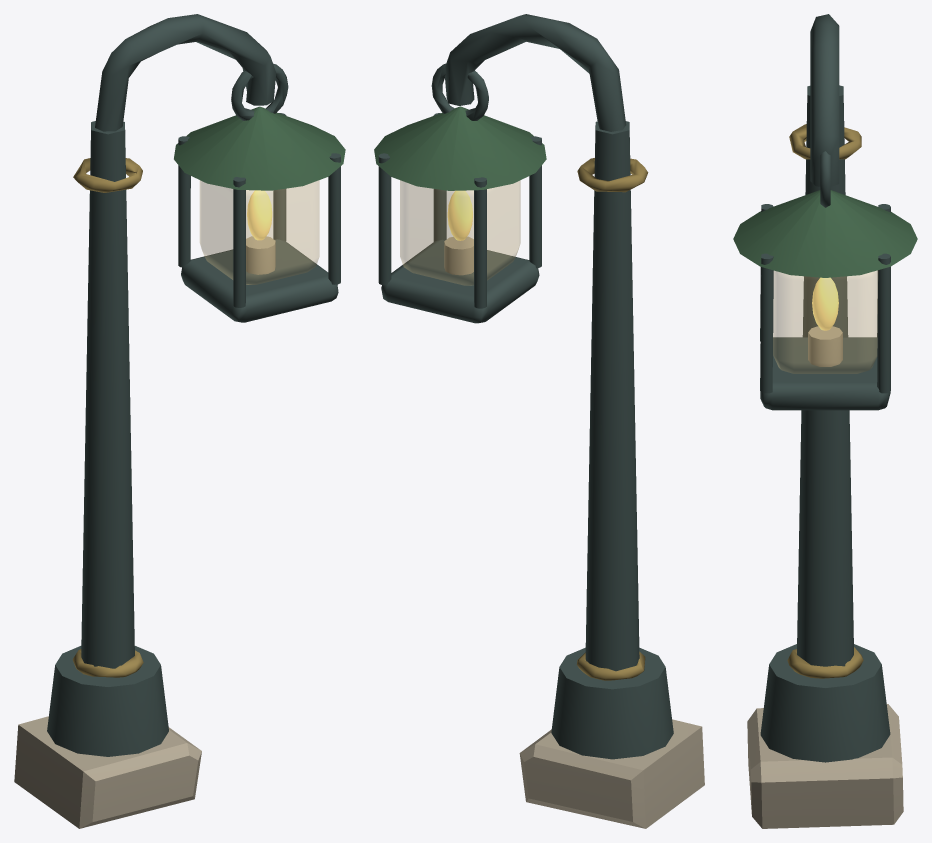
File: farol_lod.glb
3 renders of one model, left to right at view 1: azimuth 30°, elevation 25°; view 2: azimuth 150°, elevation 25°; view 3: azimuth 270°, elevation 25°, orthographic. The views are drawn at different scales.
Parts seen in each view (by area): view 1: farol, fa_lampara, fa_lampara_cristal, fa_lampara_llama; view 2: farol, fa_lampara, fa_lampara_cristal, fa_lampara_llama; view 3: farol, fa_lampara, fa_lampara_cristal, fa_lampara_llama.
Part boxes in pixels (bbox=[...]): farol: bbox=[14, 14, 276, 828]; fa_lampara: bbox=[174, 63, 345, 322]; fa_lampara_cristal: bbox=[200, 180, 319, 284]; fa_lampara_llama: bbox=[247, 190, 272, 240]; farol: bbox=[444, 14, 704, 828]; fa_lampara: bbox=[374, 63, 546, 323]; fa_lampara_cristal: bbox=[400, 180, 520, 285]; fa_lampara_llama: bbox=[447, 190, 472, 240]; farol: bbox=[747, 14, 903, 828]; fa_lampara: bbox=[733, 151, 917, 410]; fa_lampara_cristal: bbox=[773, 270, 877, 373]; fa_lampara_llama: bbox=[812, 277, 838, 330].
Size of the model in its own units: 0.8233 by 2.05 by 0.426.
